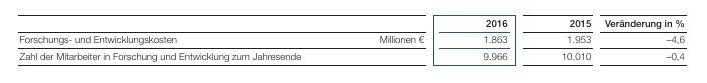table: (0, 0, 707, 83)
